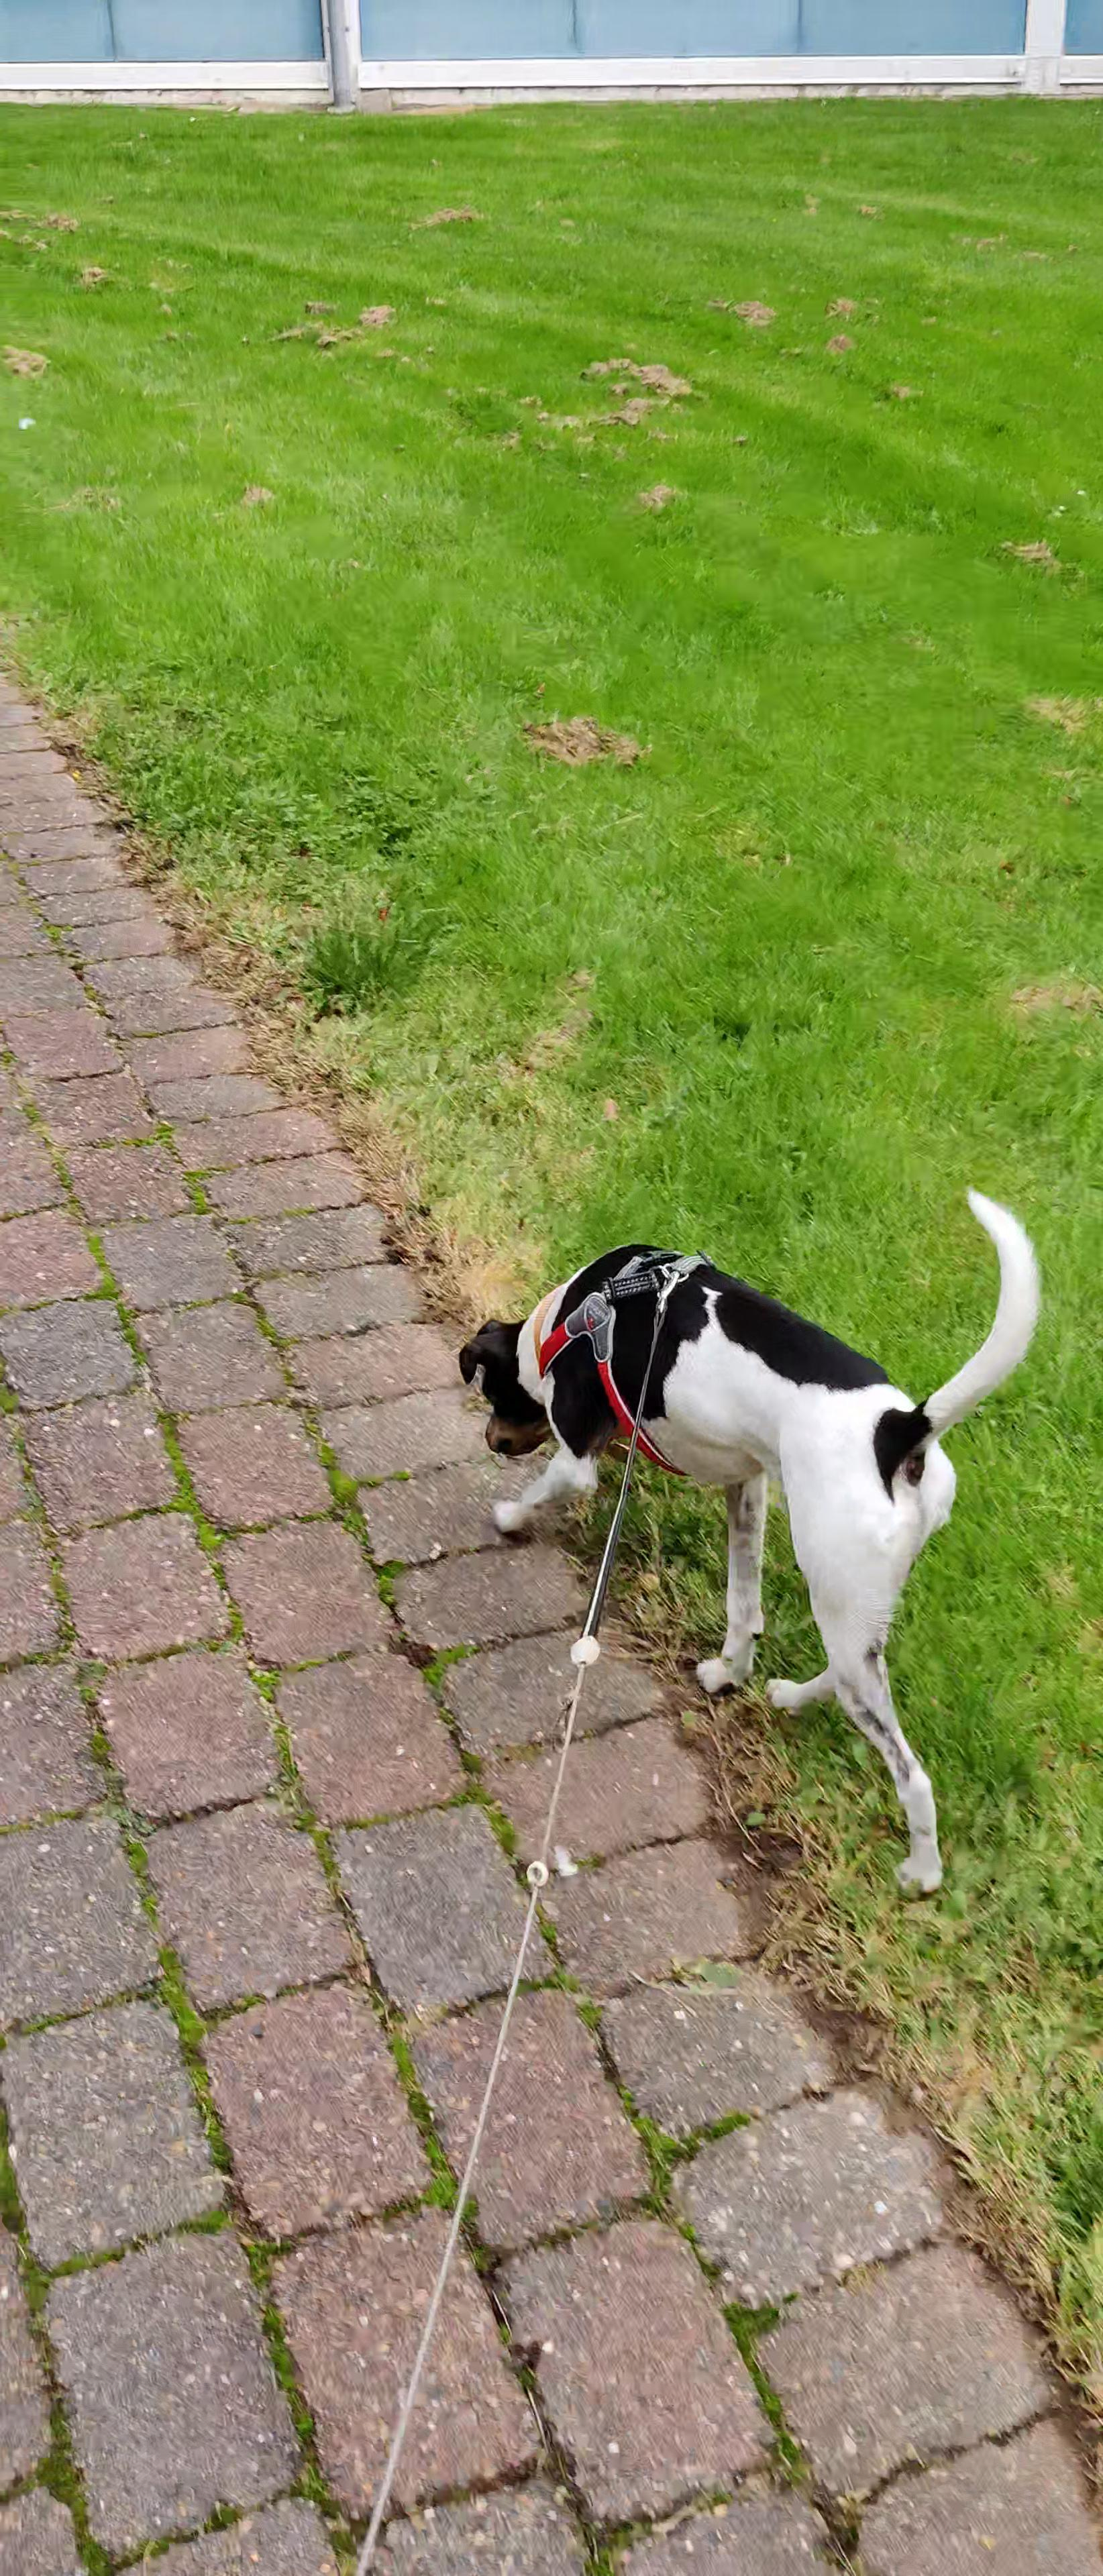Dog: (449, 1168, 1045, 1907)
